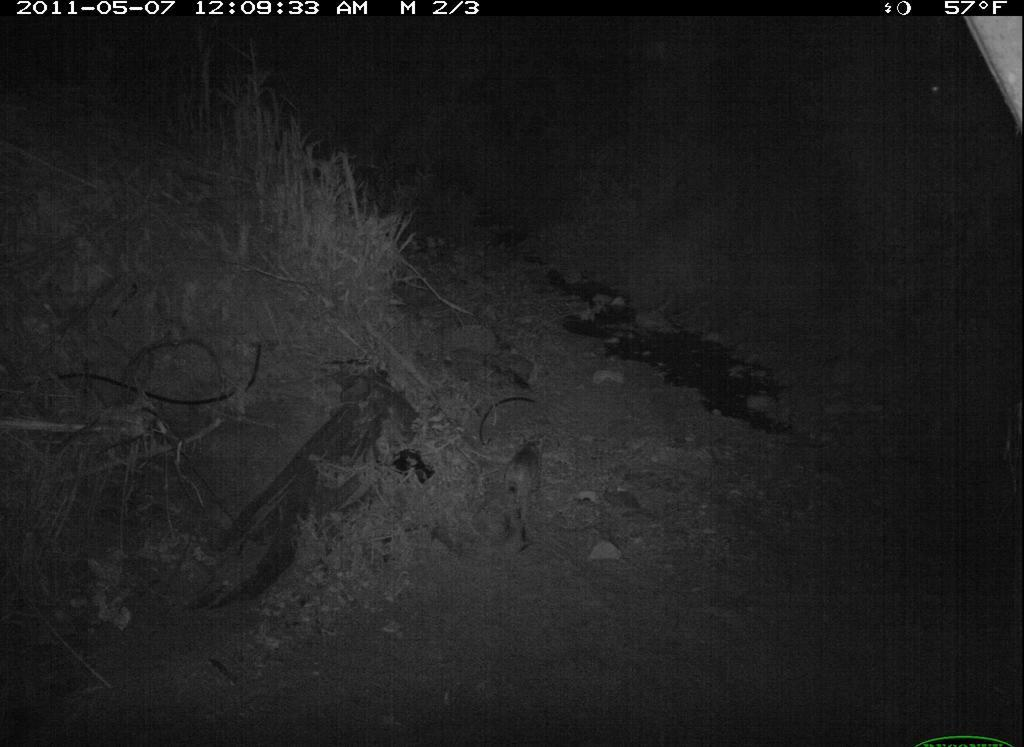bobcat: (500, 423, 547, 553)
